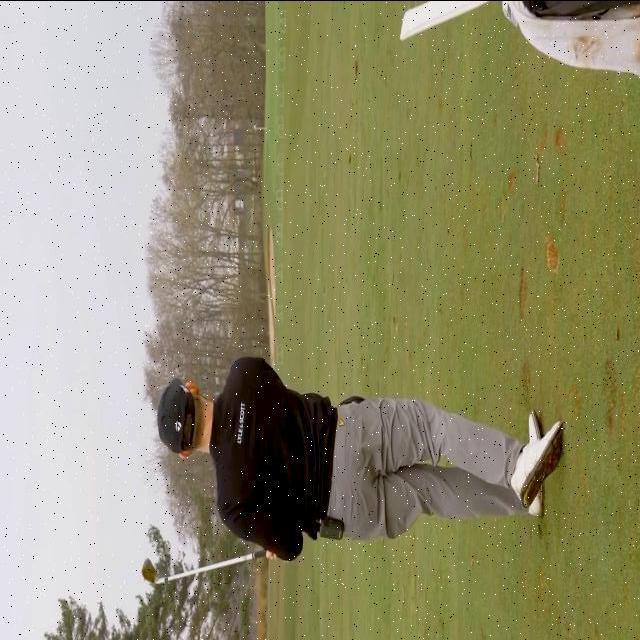ClubHandle: (142, 549, 265, 585)
ClubHead: (142, 558, 157, 585)
